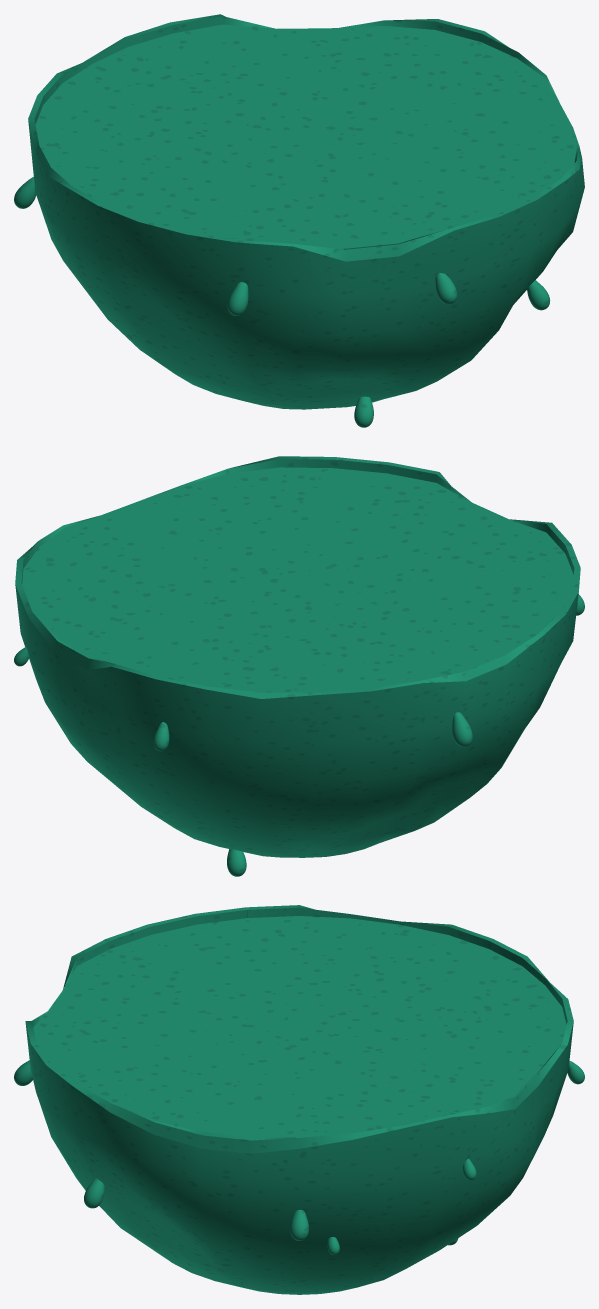
The model's file is membrana_plasmatica.glb.
The picture shows the model from 3 angles, top to bottom: view 1: azimuth 30°, elevation 25°; view 2: azimuth 150°, elevation 25°; view 3: azimuth 270°, elevation 25°; orthographic projection. The views are drawn at different scales.
Visible parts, largest first — view 1: membrana_plasmatica; view 2: membrana_plasmatica; view 3: membrana_plasmatica.
Part boxes in pixels (x1,y1,x2,y2): membrana_plasmatica: (14, 14, 584, 427); membrana_plasmatica: (14, 456, 584, 876); membrana_plasmatica: (14, 905, 584, 1294).
Bounding box in the file's own units: 2.7 × 1.35 × 2.81.
Materials: 1 (1 with a texture image).
